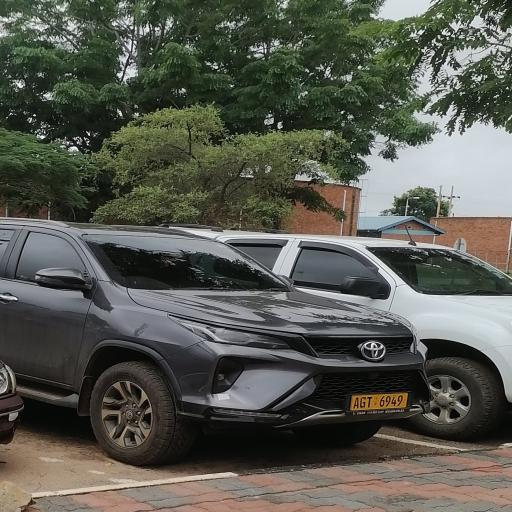number-plates: (352, 390, 416, 412)
